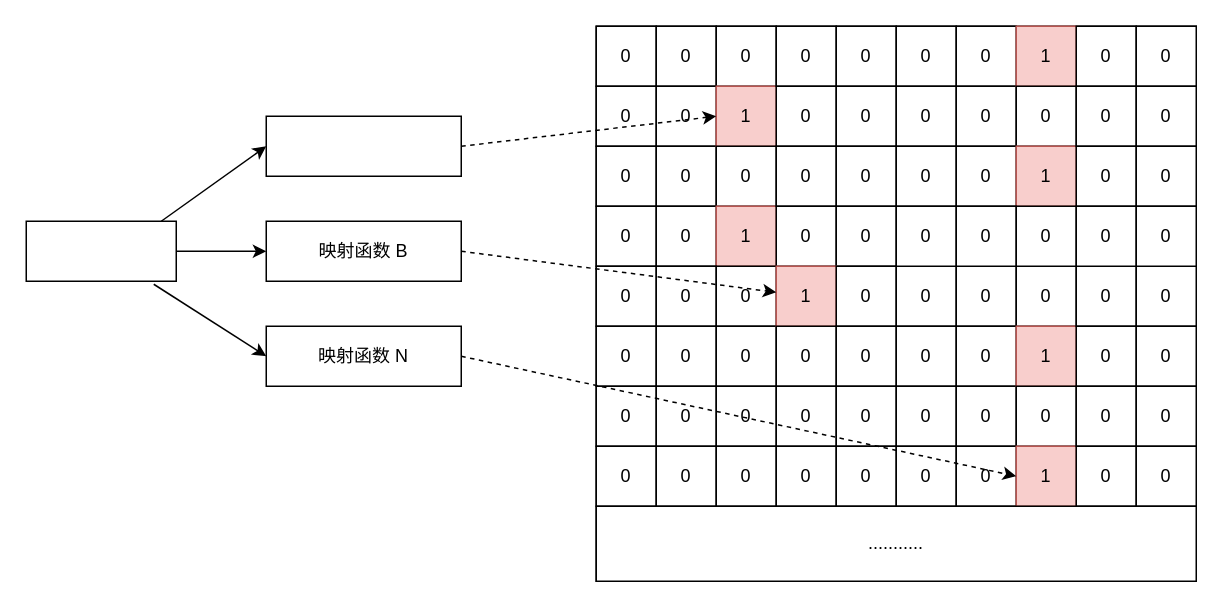
This 1223x608 diagram has some shape labels left out. Here are the shapes that lost their labels. From the top down, the centre of each, then its label:
At (x=363, y=145): "映射函数 A".
At (x=100, y=250): "content".
